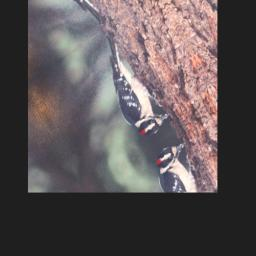Woodpecker: (86, 24, 175, 148)
